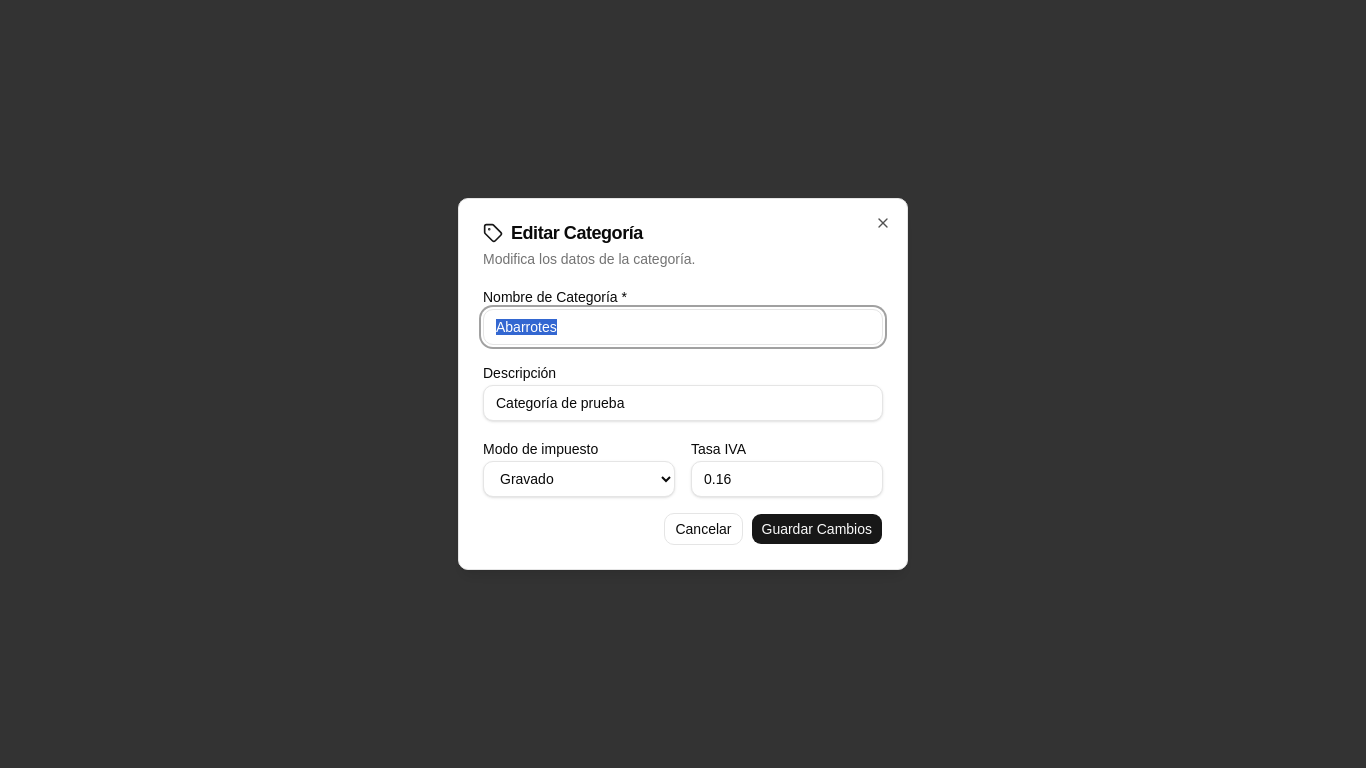
it: CategoryDialog — tax mode behavior › allows switching from taxed to exempt without crashing and hides tax rate
Expected: the number field labelled "Tasa IVA" is shown, [691, 461, 883, 497]
Select "Exento" in the dropdown labelled "Modo de impuesto" at {"x": 579, "y": 479}, box [483, 461, 675, 497]
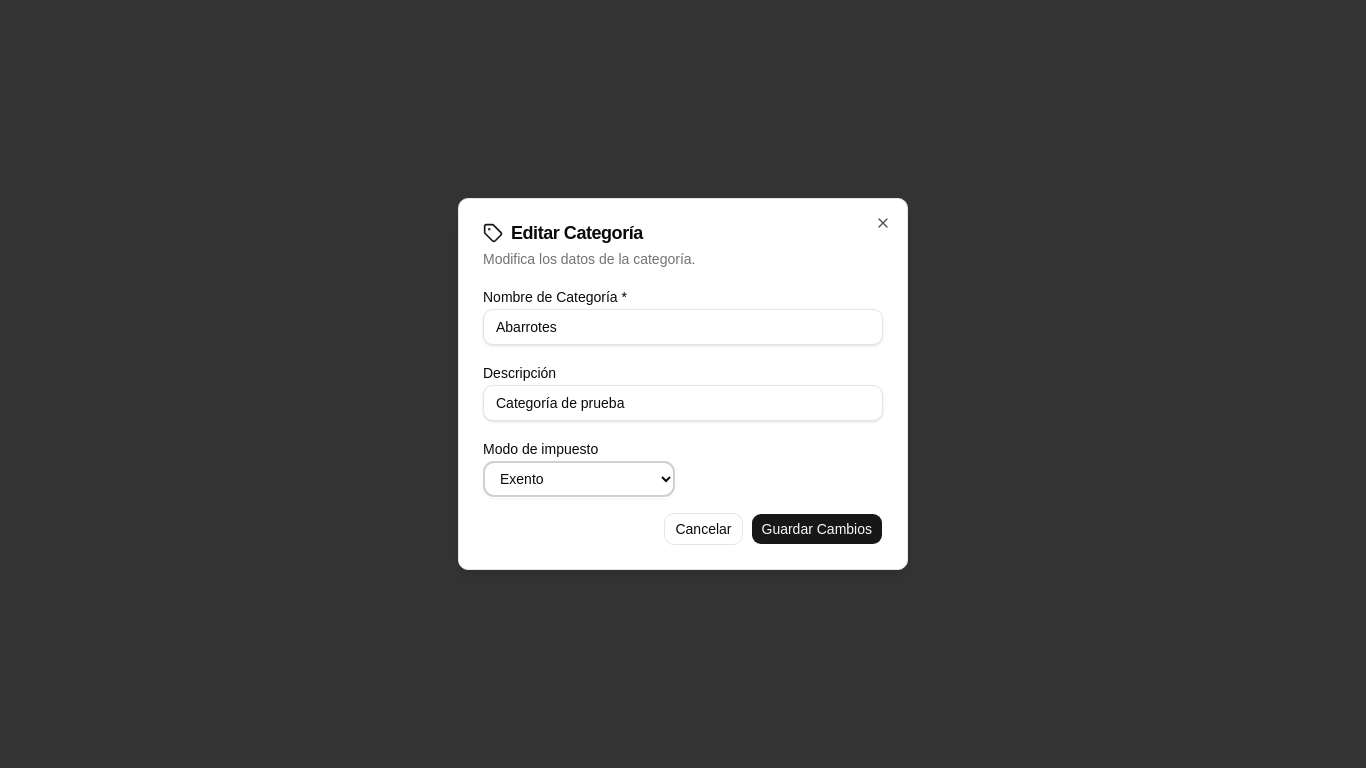
Expected: the label labelled "Tasa IVA" is gone
